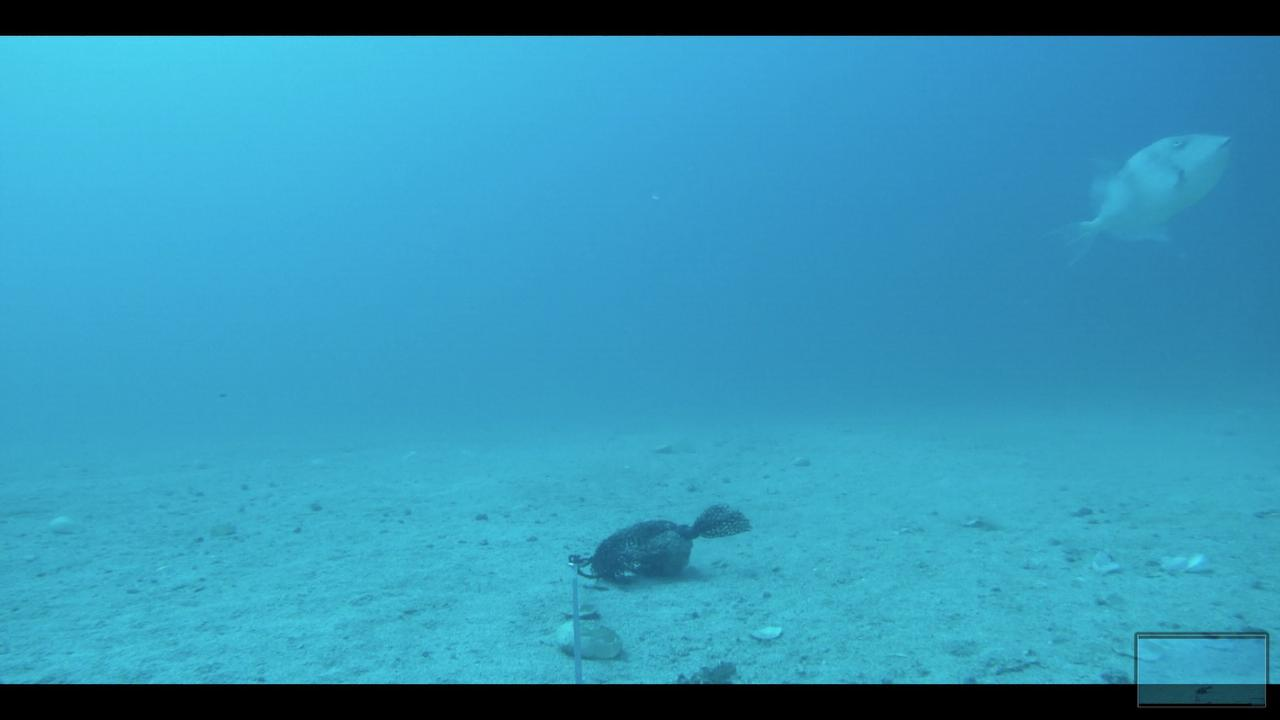balistes: (1036, 122, 1238, 278)
